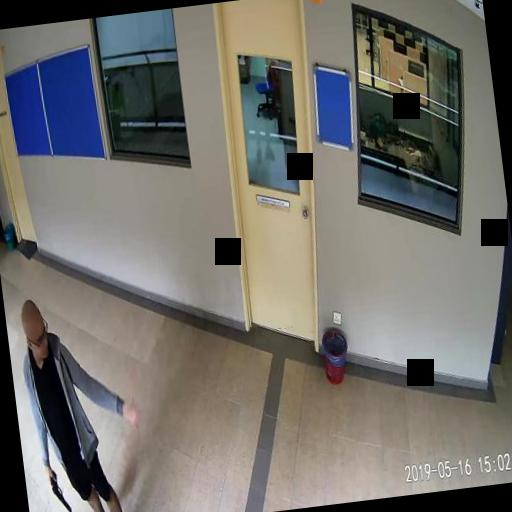Handgun: (46, 466, 71, 512)
